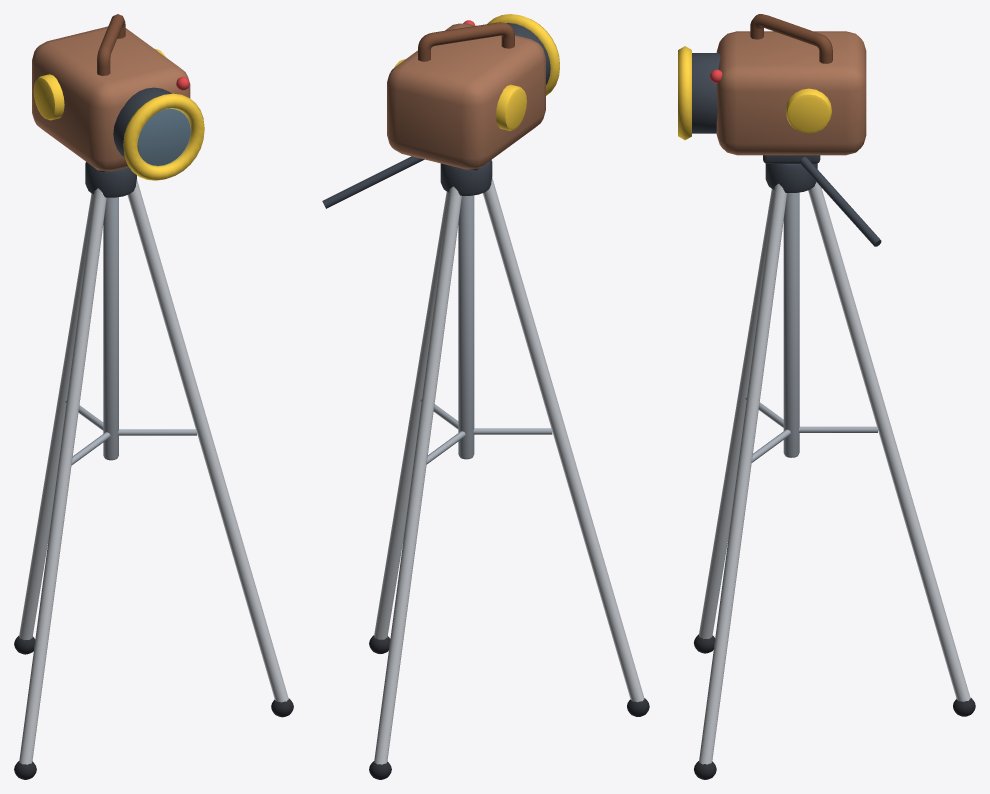
Rendered from camera_tripe.glb.
3 views of the same model, side by side, from view 1: azimuth 30°, elevation 25°; view 2: azimuth 150°, elevation 25°; view 3: azimuth 270°, elevation 25° (orthographic).
Parts seen in each view (by area): view 1: camera_tripe; view 2: camera_tripe; view 3: camera_tripe.
Part boxes in pixels (x1=…): camera_tripe: x1=14, y1=14, x2=293, y2=779; camera_tripe: x1=322, y1=14, x2=649, y2=779; camera_tripe: x1=678, y1=14, x2=975, y2=779.
Size of the model in its own units: 0.5596 by 1.32 by 0.5171.
2 materials, 1 textured.
